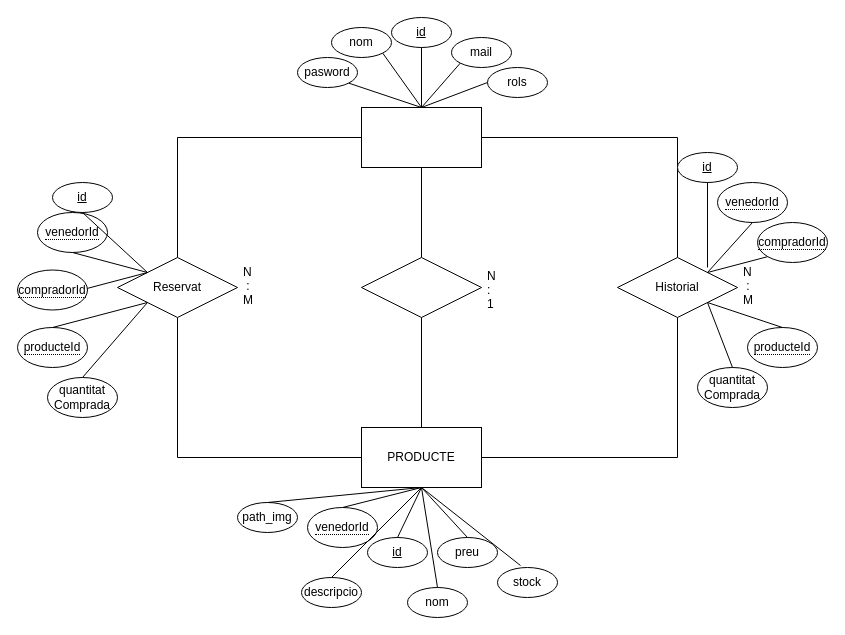
Some shapes in this 845 by 635 pixel diagram are drawn without their labels. Each missing label, with the centre of its shape:
USUARI: the point at 421,137
Ven: the point at 421,287
